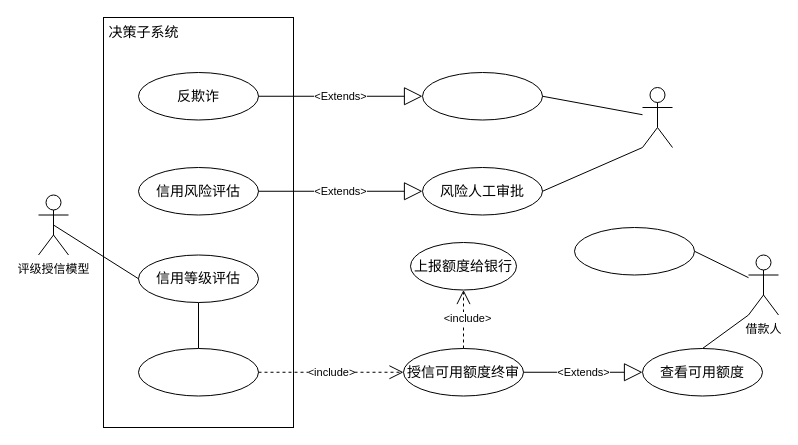
This 798x445 diagram has some shape labels left out. The centre of each missing label's shape, as x and y in pixels:
欺诈人工审批: the point at 482,96
系统审批员: the point at 657,117
自动化审批: the point at 198,372
获取可用额度: the point at 634,250
